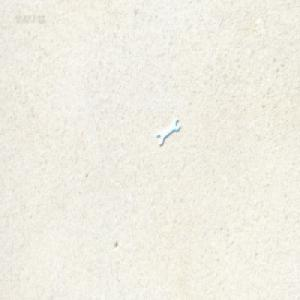Wrench: (156, 117, 178, 145)
